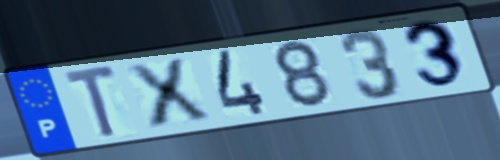3: (401, 16, 474, 93), (339, 26, 403, 103)
4: (215, 47, 268, 117)
8: (269, 37, 337, 110)
T: (60, 62, 121, 143)
X: (121, 55, 215, 131)
